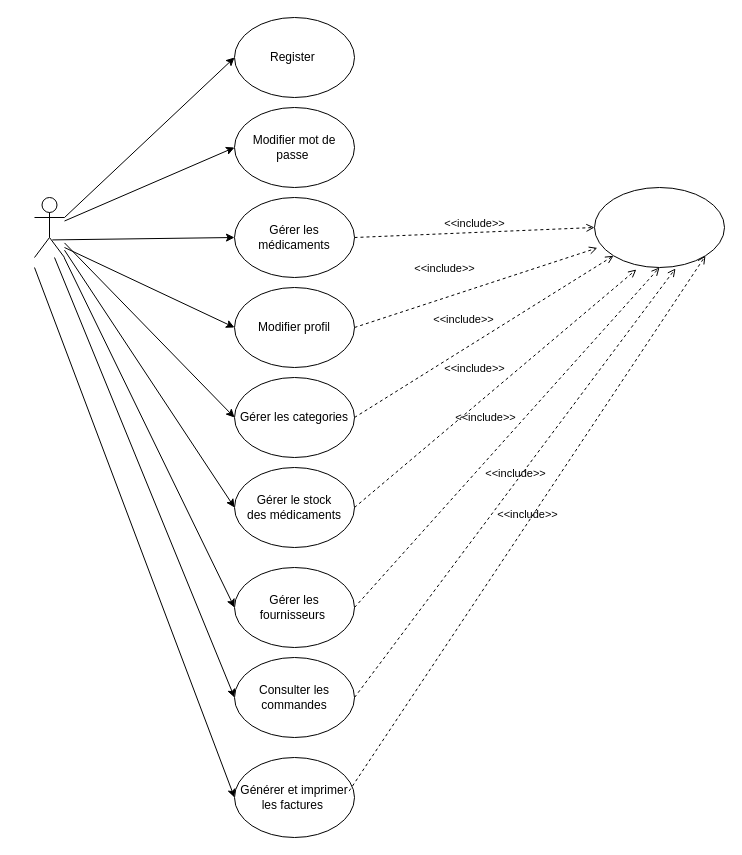
Image size: 742x855. Some labels were removed from this diagram. Here are the shapes that lost their labels. From the top down, the centre of each, then its label:
[49,227]: Pharmacien
[659,227]: Login
